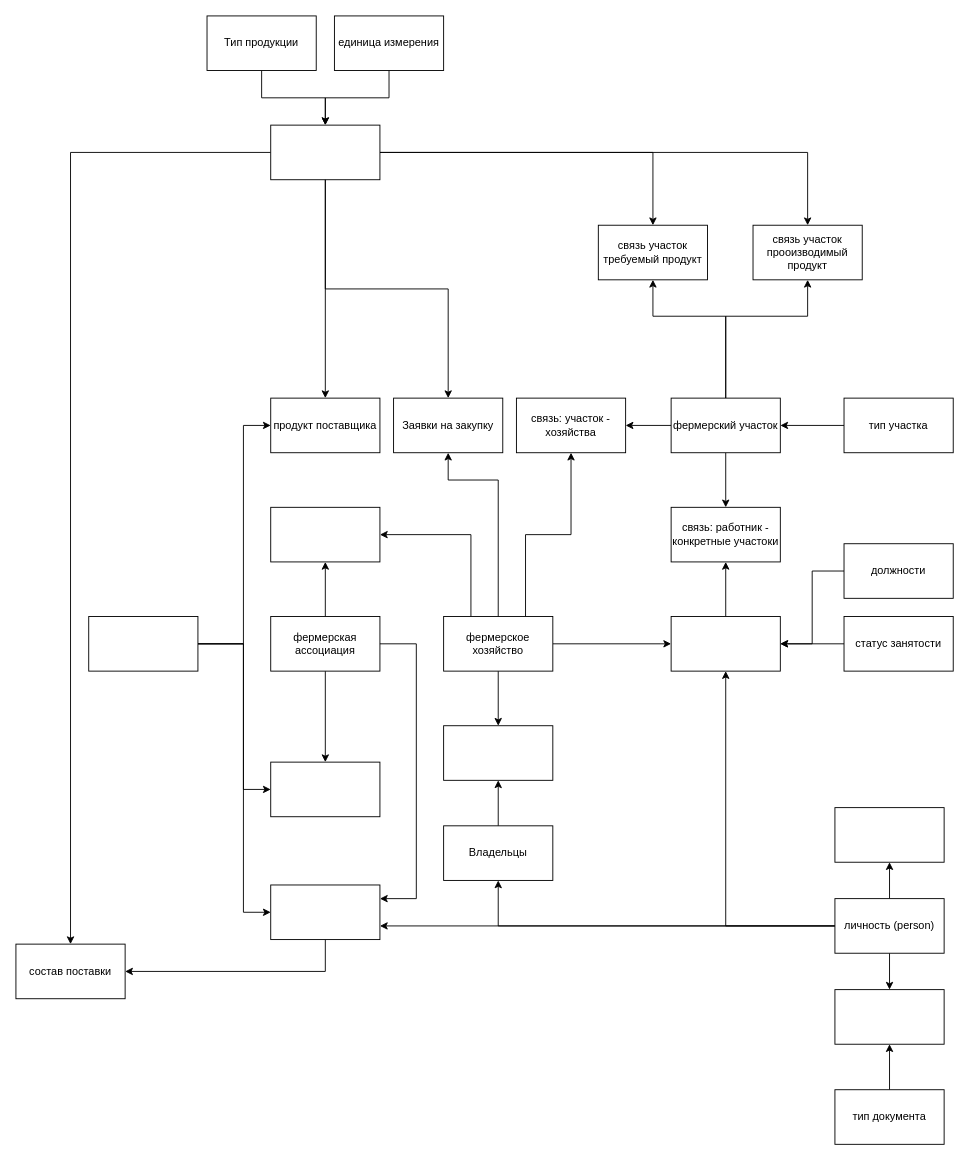
Some shapes in this 969 by 1160 pixel diagram are drawn without their labels. Each missing label, with the centre of its shape:
документ удостоверяющий личность: pixel 889 1016
контракт с поставщиком: pixel 325 789
поставка: pixel 325 912
Поставщик: pixel 143 643
продукт: pixel 325 152
Работник фермы: pixel 725 643
связь: ферма - владелец: pixel 498 752
связь: хозяйства - ассоциации: pixel 325 534
член ассоциации: pixel 889 834
